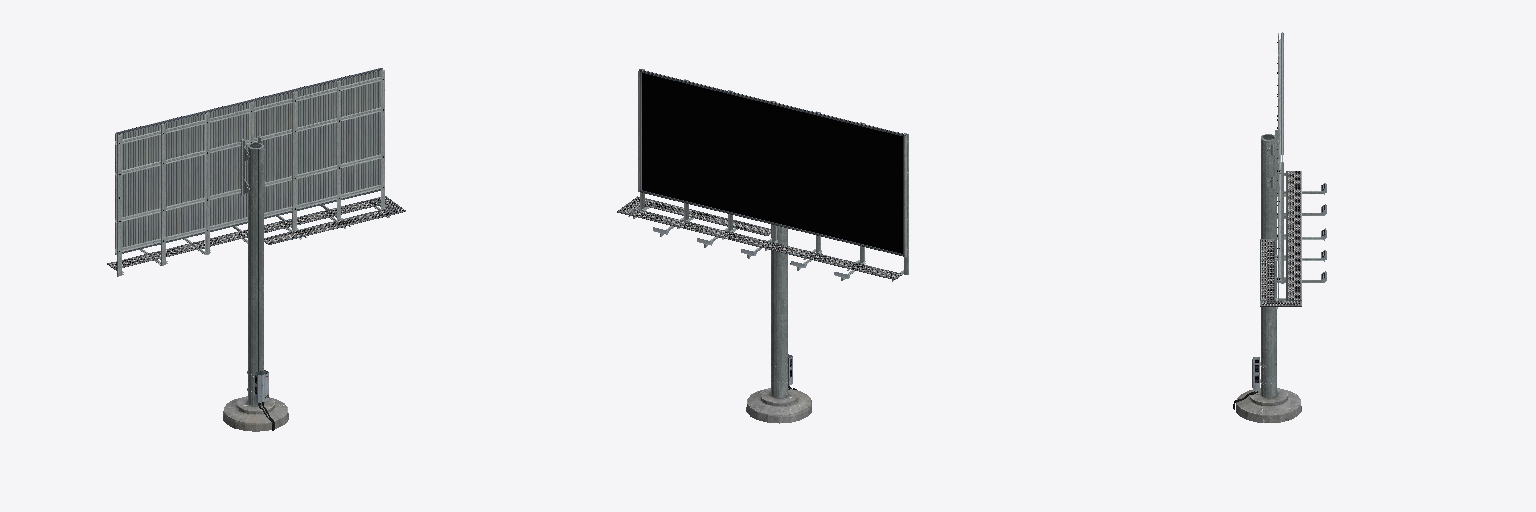
3 renders of one model, left to right at view 1: azimuth 30°, elevation 25°; view 2: azimuth 150°, elevation 25°; view 3: azimuth 270°, elevation 25°, orthographic.
Visible parts, largest first — view 1: Mesh_1_Mesh_1_billboard_a; view 2: Mesh_1_Mesh_1_billboard_a; view 3: Mesh_1_Mesh_1_billboard_a.
Boxes of the visible parts, <box> form: Mesh_1_Mesh_1_billboard_a: <box>107,68,405,431</box>; Mesh_1_Mesh_1_billboard_a: <box>617,69,908,423</box>; Mesh_1_Mesh_1_billboard_a: <box>1233,32,1326,422</box>.
Bounding box in the file's own units: 8.72 × 9.26 × 2.53.
1 materials, 1 textured.